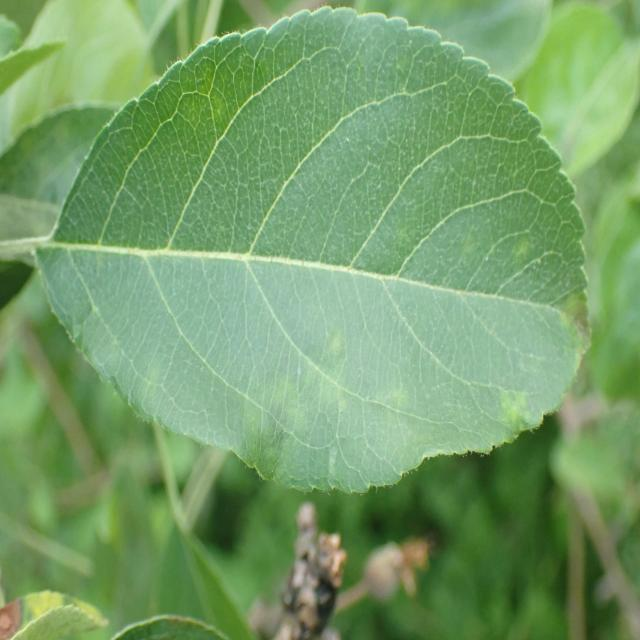scab: (68, 155, 596, 494)
